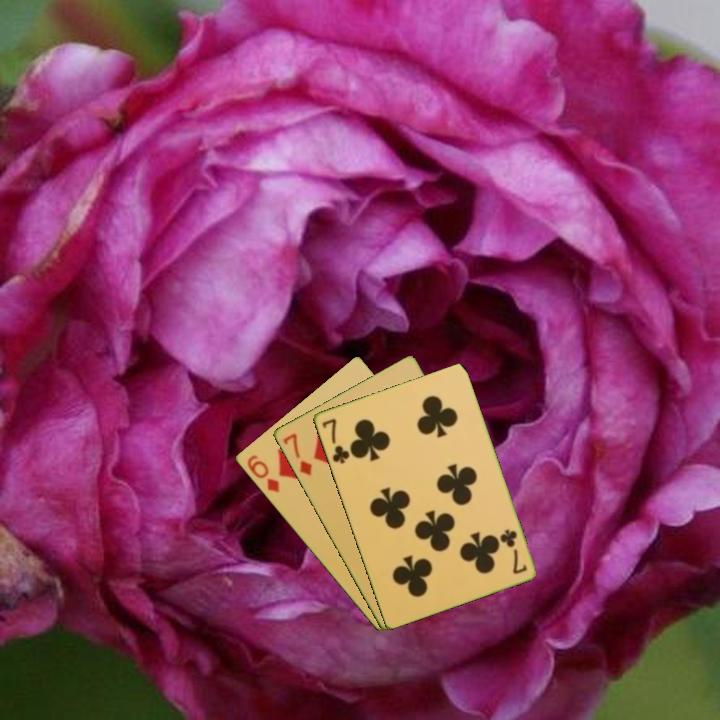6d: (243, 451, 282, 496)
7c: (318, 415, 352, 467), (496, 525, 530, 577)
7d: (279, 429, 315, 479)
